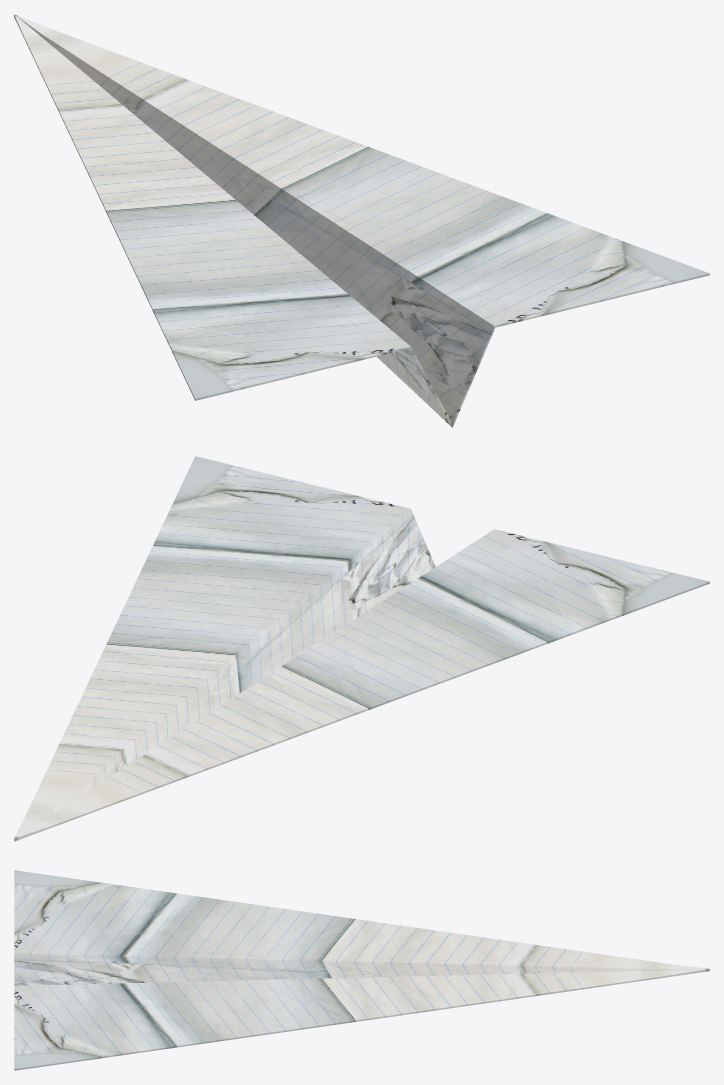
The model's file is PaperPlaneFlat.fbx.
The picture shows the model from 3 angles, top to bottom: view 1: azimuth 30°, elevation 25°; view 2: azimuth 150°, elevation 25°; view 3: azimuth 270°, elevation 25°; orthographic projection. The views are drawn at different scales.
Parts seen in each view (by area): view 1: Cube; view 2: Cube; view 3: Cube.
Boxes of the visible parts, x1=… form: Cube: x1=14, y1=14, x2=709, y2=427; Cube: x1=14, y1=456, x2=709, y2=841; Cube: x1=14, y1=870, x2=709, y2=1070.
Bounding box in the file's own units: 6 × 1.03 × 8.86.
